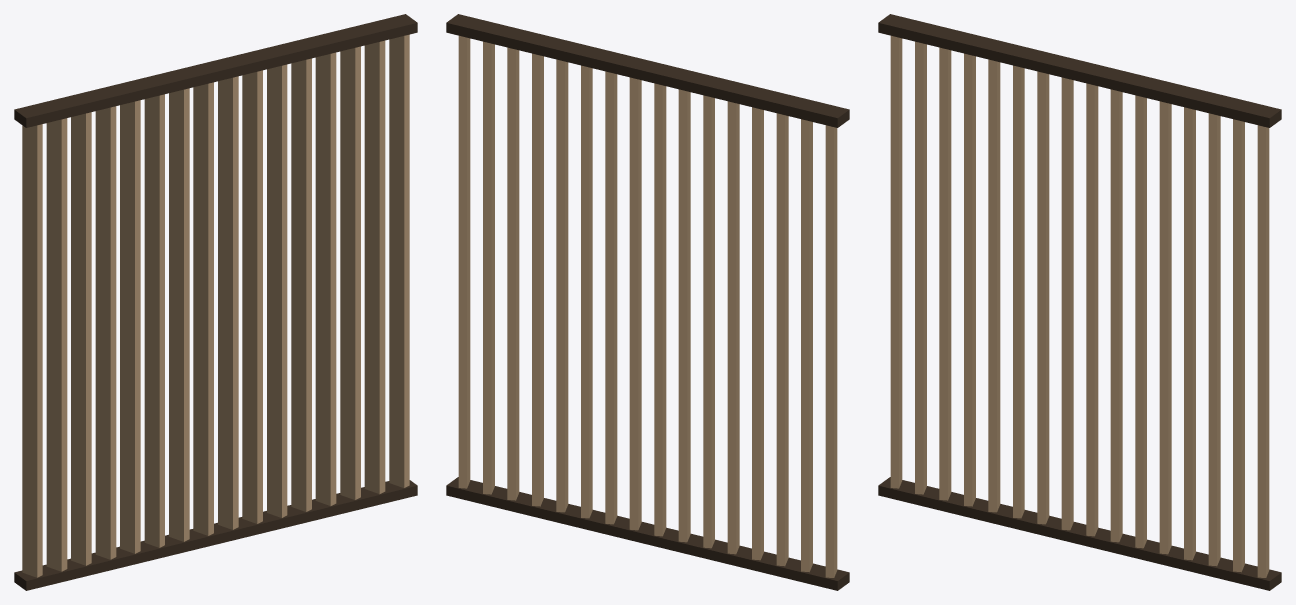
The model's file is archviz_wood_slats_divider.glb.
3 views of the same model, side by side, from view 1: azimuth 30°, elevation 25°; view 2: azimuth 150°, elevation 25°; view 3: azimuth 330°, elevation 25° (orthographic).
Size of the model in its own units: 2.08 by 2.4 by 0.11.
